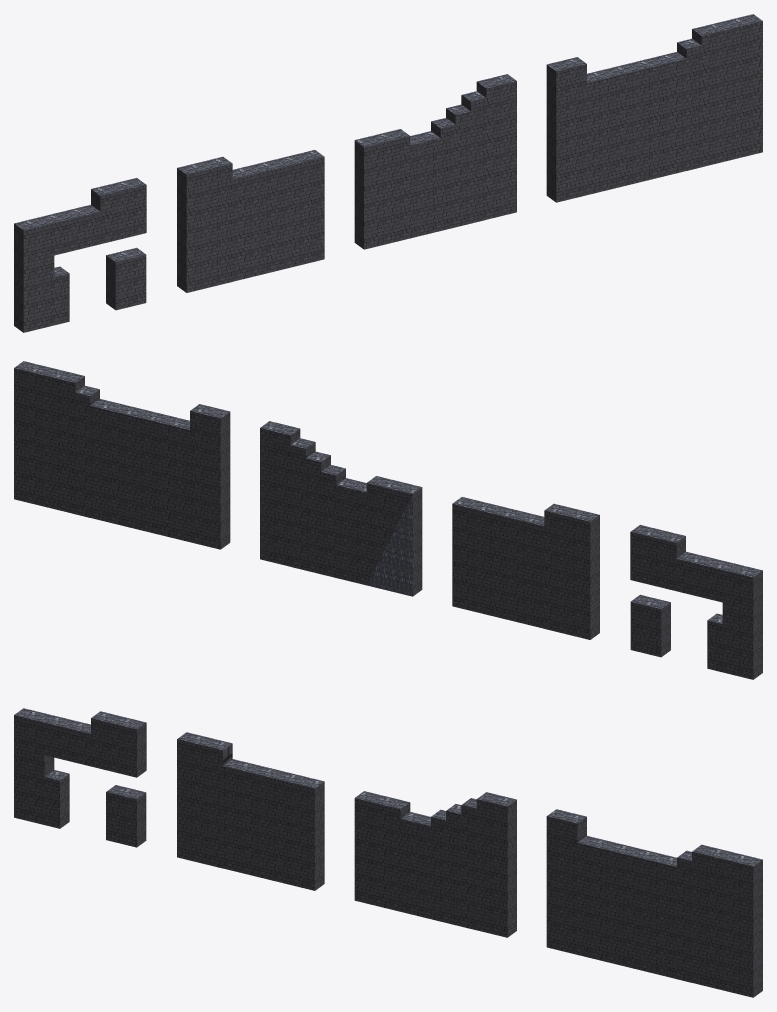
Rendered from Level1.FBX.
3 renders of one model, top to bottom at view 1: azimuth 30°, elevation 25°; view 2: azimuth 150°, elevation 25°; view 3: azimuth 330°, elevation 25°, orthographic.
Visible parts, largest first — view 1: Cube__18__13; view 2: Cube__18__13; view 3: Cube__18__13.
Boxes of the visible parts, x1,y1,x2,y2 form: Cube__18__13: (14, 14, 762, 332); Cube__18__13: (14, 361, 762, 679); Cube__18__13: (14, 708, 762, 997).
Size of the model in its own units: 89.01 by 15.13 by 2.
2 materials, 2 textured.
